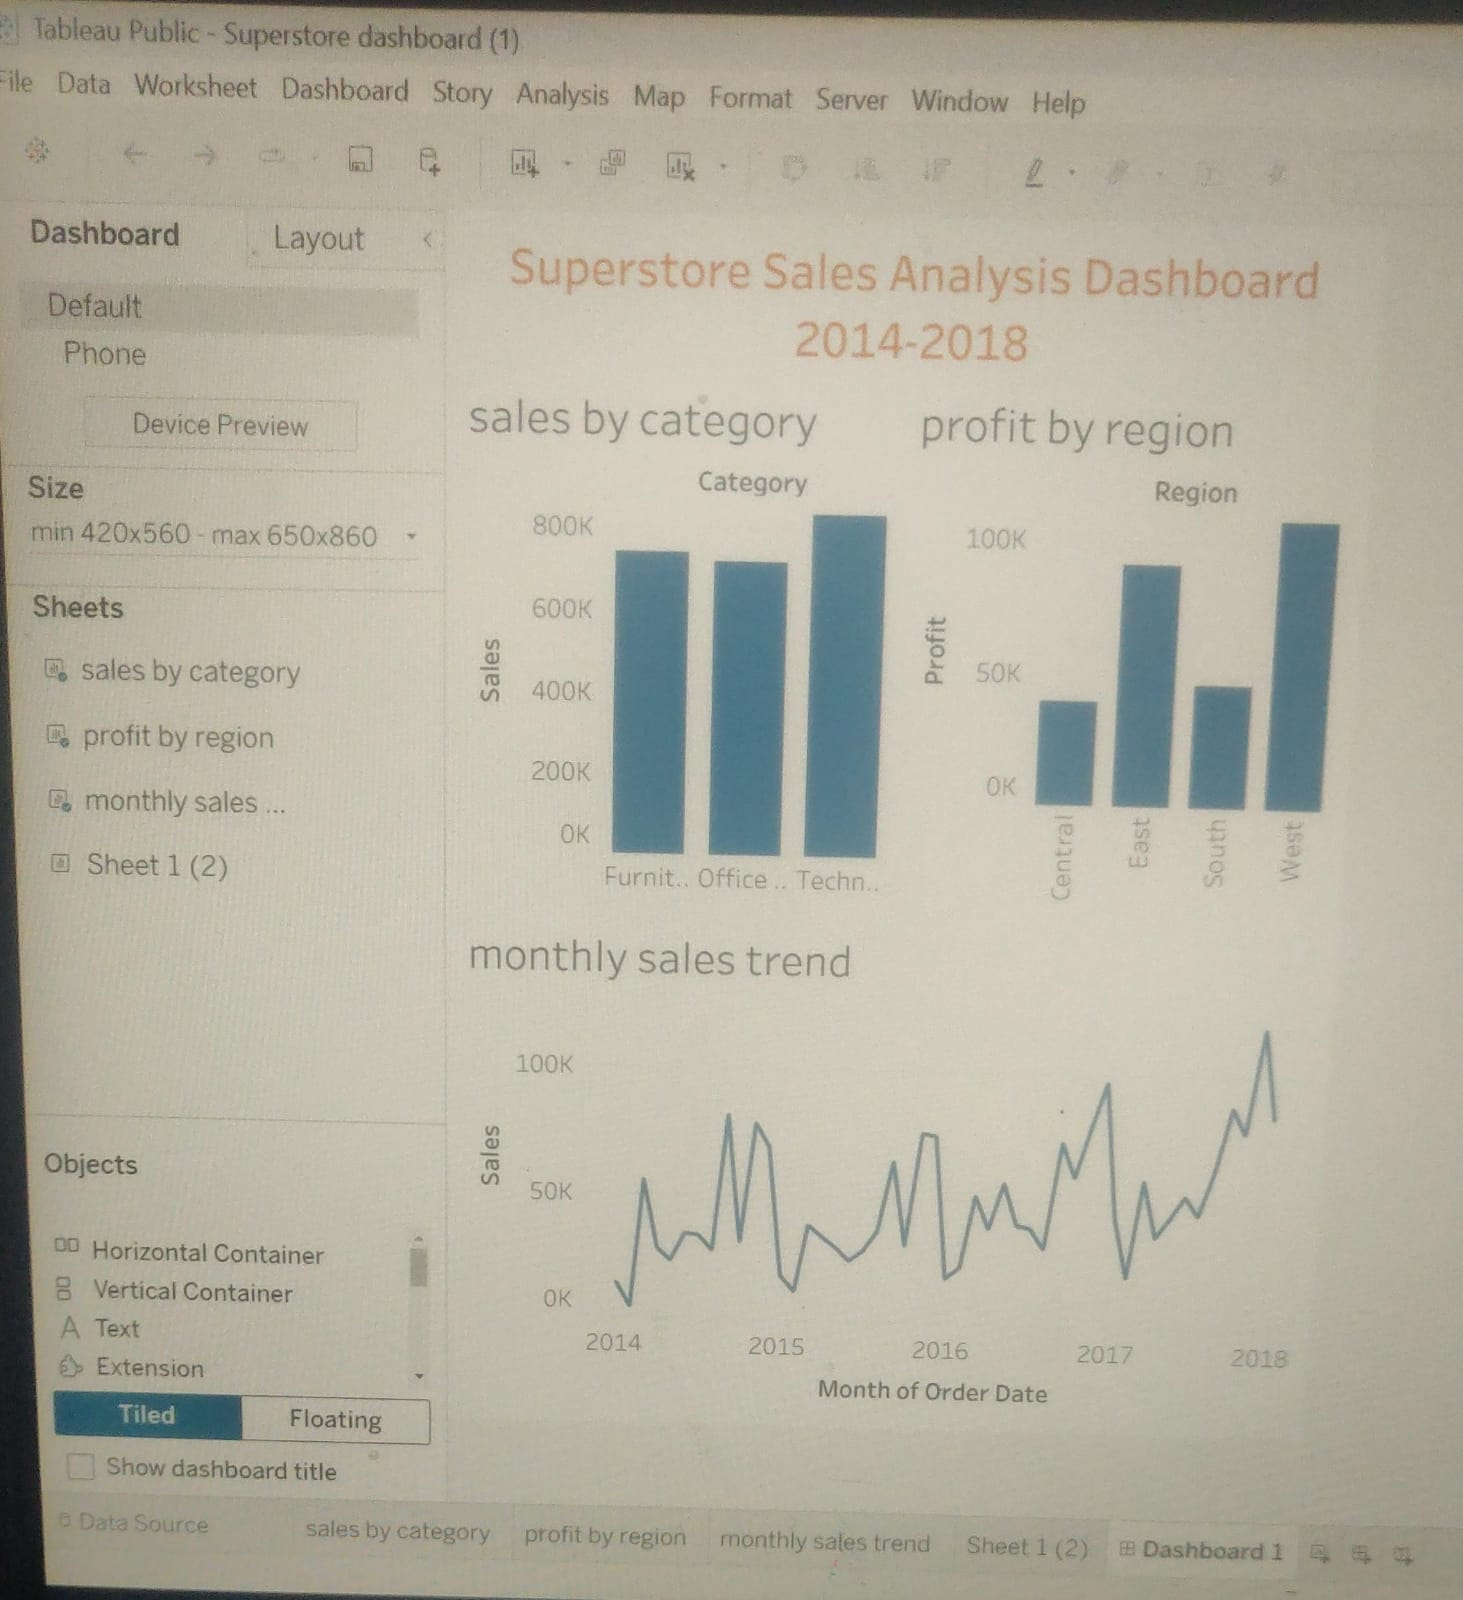

Layout of this report page (visuals, bound fields, positions):
{"tool":"tableau","page":{"name":"Dashboard 1","canvas":[650,860],"ordinal":0},"visuals":[{"type":"title","box":[8,8,634,96]},{"type":"worksheet","title":"sales by category","mark":"Automatic","rows":["Sales"],"cols":["Category"],"box":[8,104,317,374]},{"type":"worksheet","title":"profit by region","mark":"Automatic","rows":["Profit"],"cols":["Region"],"box":[325,104,317,374]},{"type":"worksheet","title":"monthly sales trend","mark":"Automatic","rows":["Sales"],"cols":["Order Date"],"box":[8,478,634,374]}]}

Visuals, with their boxes on the page's 650x860 design canvas (x1, y1, x2, y2). These are canvas units, not pixel positions in the 1463x1600 screenshot, which may show the page scaled, cropped or inside an application window:
title: x1=8, y1=8, x2=642, y2=104
"sales by category" worksheet: x1=8, y1=104, x2=325, y2=478
"profit by region" worksheet: x1=325, y1=104, x2=642, y2=478
"monthly sales trend" worksheet: x1=8, y1=478, x2=642, y2=852
